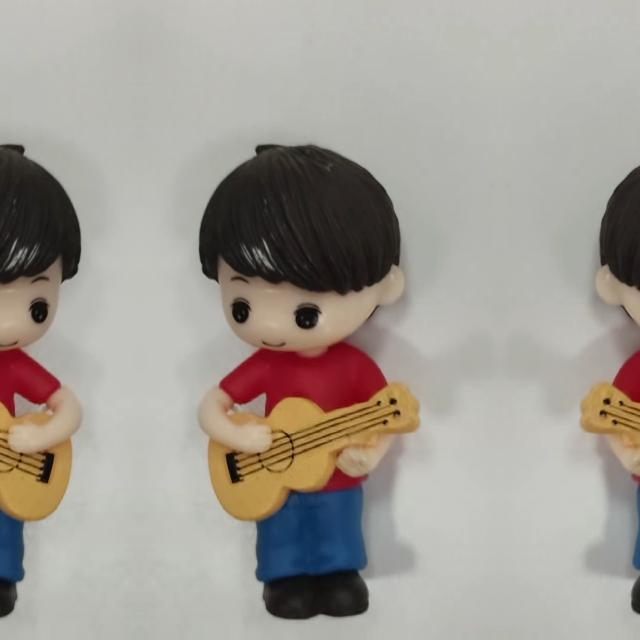man cloth: (224, 349, 396, 489), (0, 349, 56, 489), (603, 349, 640, 489)
man head: (184, 135, 416, 355), (0, 135, 96, 355), (583, 135, 640, 355)
trousers: (248, 488, 379, 628), (0, 488, 31, 627), (620, 488, 640, 627)
